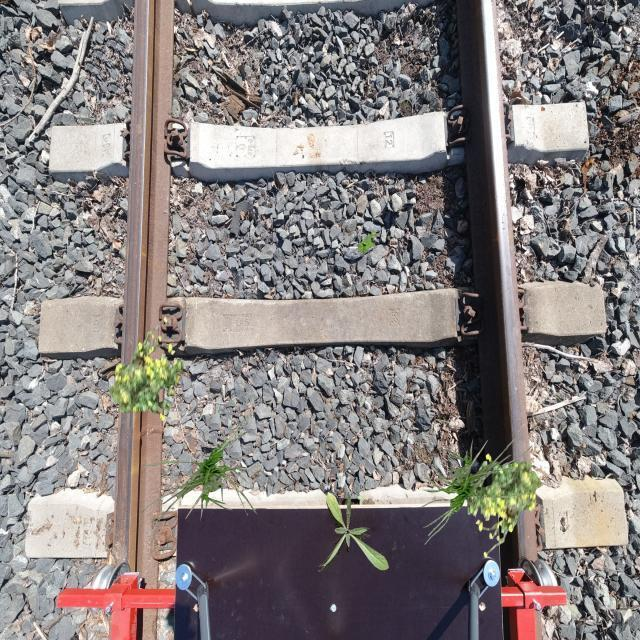Plant: (141, 414, 260, 536), (414, 422, 532, 544), (109, 317, 184, 422), (468, 454, 543, 559), (317, 491, 388, 572), (357, 231, 376, 256)
